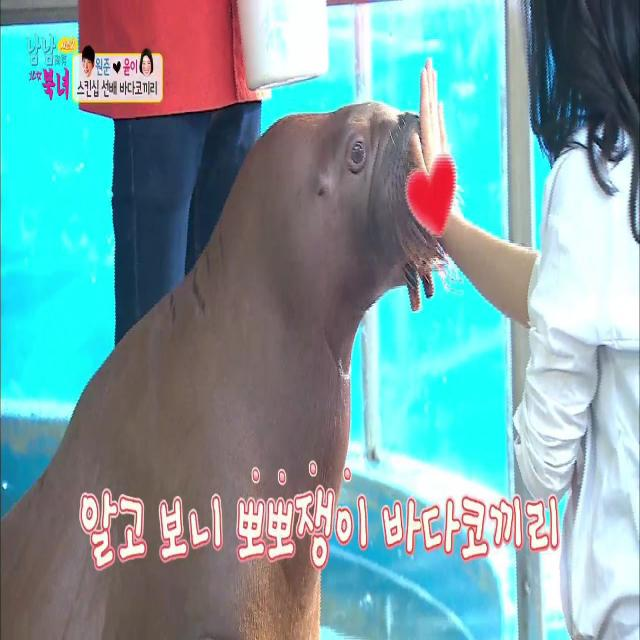walrus: (48, 87, 446, 478)
